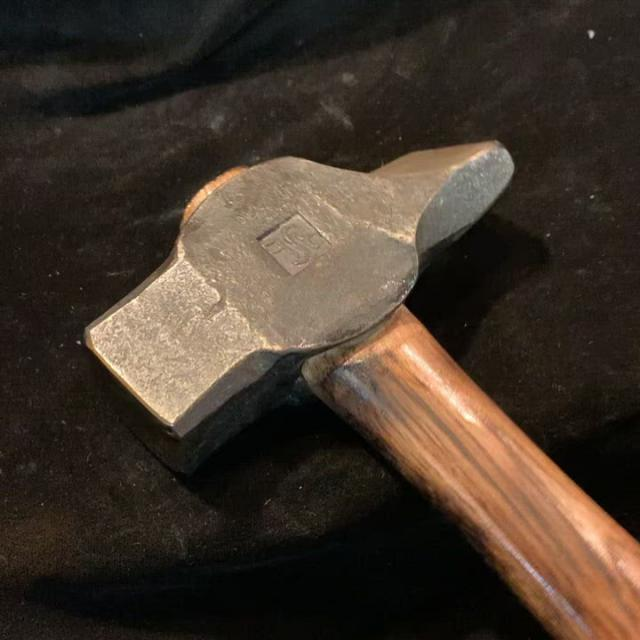hammer: (65, 124, 640, 640)
